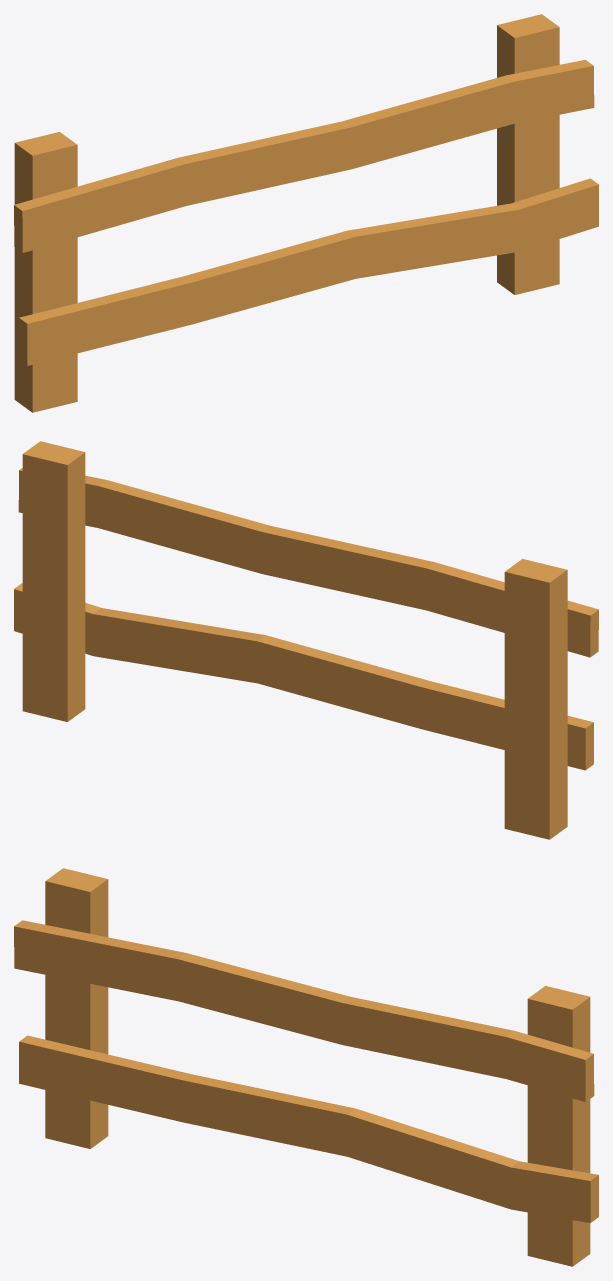
The model's file is Fence2.fbx.
3 views of the same model, one above another, from view 1: azimuth 30°, elevation 25°; view 2: azimuth 150°, elevation 25°; view 3: azimuth 330°, elevation 25° (orthographic).
Visible parts, largest first — view 1: Fence2; view 2: Fence2; view 3: Fence2.
Part boxes in pixels (x1,y1,x2,y2): Fence2: (14,14,598,412); Fence2: (14,441,598,839); Fence2: (14,868,598,1266).
Bounding box in the file's own units: 305 × 130 × 26.12.
